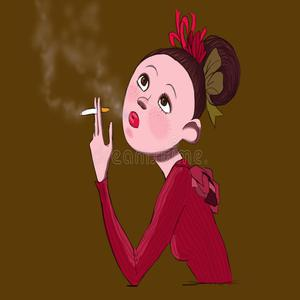cigarette: (76, 108, 110, 115)
